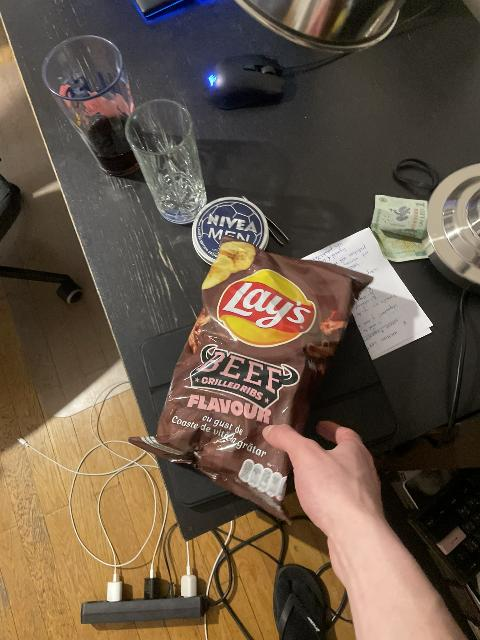Lays Beef Grilled Ribs 125g: (131, 240, 363, 524)
